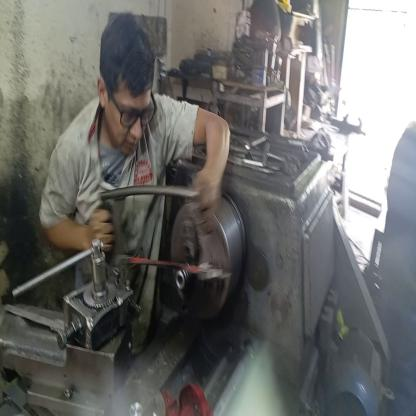lentes: (105, 83, 156, 128)
